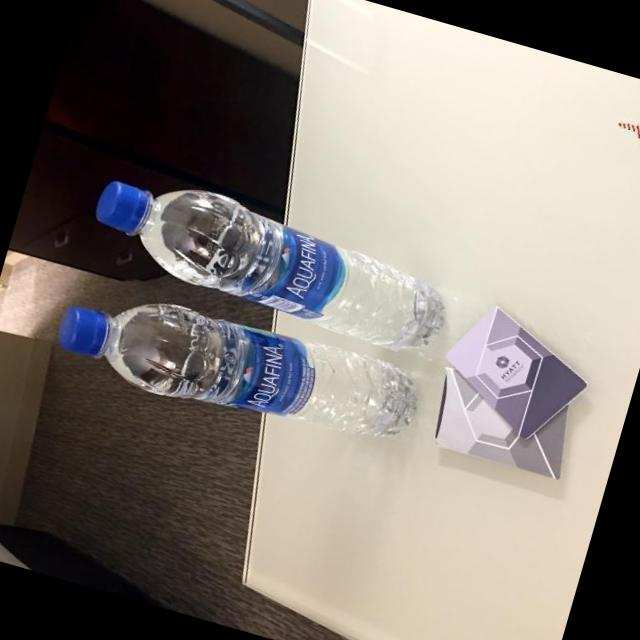BotolPlastik: (78, 159, 462, 362), (46, 268, 428, 465)
